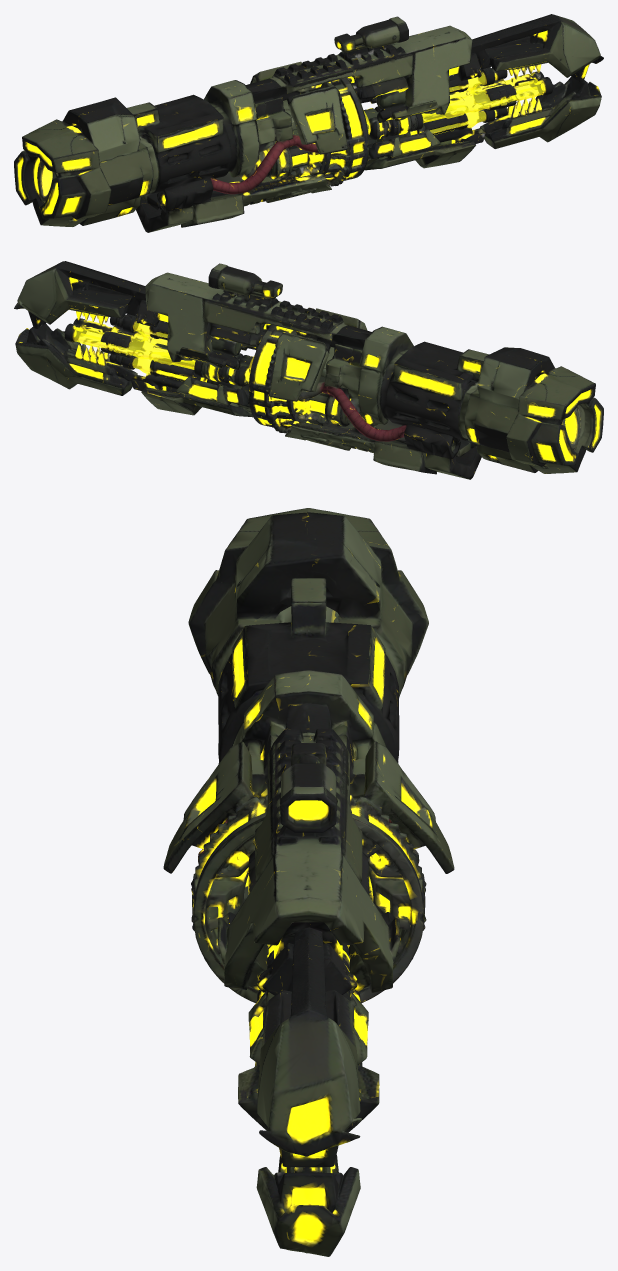
Rendered from machine_gun_source.glb.
3 views of the same model, one above another, from view 1: azimuth 30°, elevation 25°; view 2: azimuth 150°, elevation 25°; view 3: azimuth 270°, elevation 25° (orthographic). The views are drawn at different scales.
Visible parts, largest first — view 1: Weapon_Body, Yellow_Forward_Energy_Conduits; view 2: Weapon_Body, Yellow_Forward_Energy_Conduits; view 3: Weapon_Body.
Boxes of the visible parts, x1=… form: Weapon_Body: x1=14, y1=14, x2=603, y2=232; Yellow_Forward_Energy_Conduits: x1=422, y1=73, x2=545, y2=133; Weapon_Body: x1=14, y1=261, x2=603, y2=479; Yellow_Forward_Energy_Conduits: x1=73, y1=320, x2=195, y2=378; Weapon_Body: x1=163, y1=508, x2=454, y2=1256.
Bounding box in the file's own units: 1.9 × 0.5136 × 0.4276.
3 materials, 3 textured.
